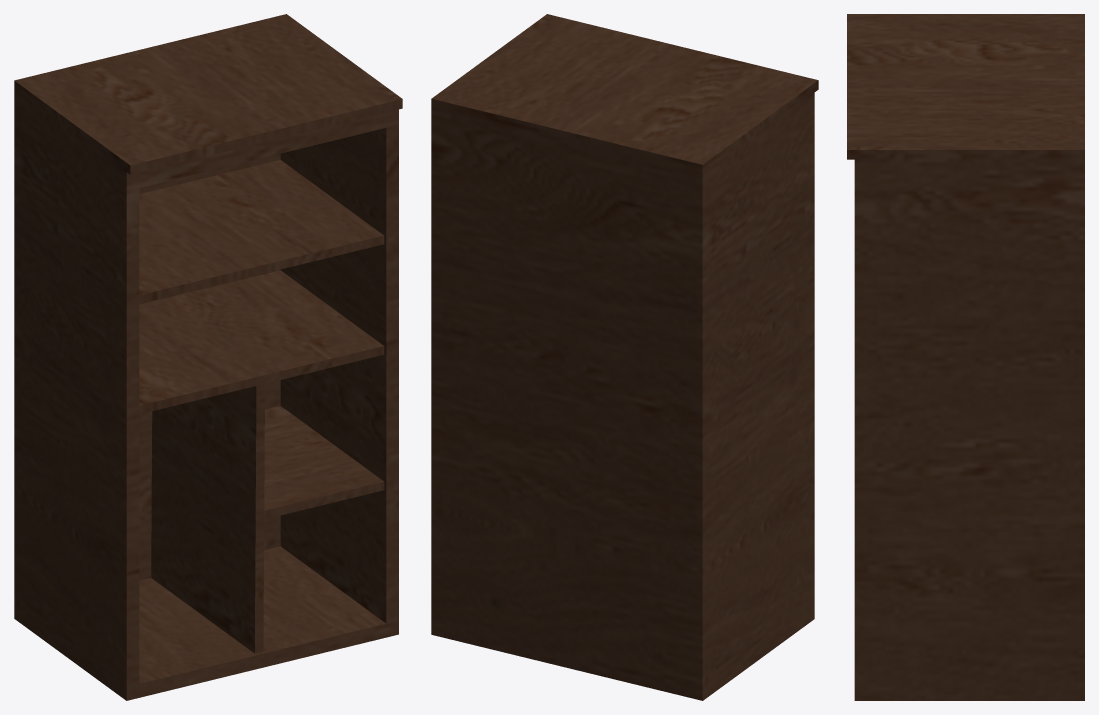
File: Closet41.fbx
The picture shows the model from 3 angles, left to right: view 1: azimuth 30°, elevation 25°; view 2: azimuth 150°, elevation 25°; view 3: azimuth 270°, elevation 25°; orthographic projection. The views are drawn at different scales.
Visible parts, largest first — view 1: Closet41; view 2: Closet41; view 3: Closet41.
Boxes of the visible parts, left/top/right/bottom form: Closet41: left=14, top=14, right=402, bottom=700; Closet41: left=431, top=14, right=818, bottom=700; Closet41: left=847, top=14, right=1084, bottom=700.
Size of the model in its own units: 62.2 by 117 by 45.95.
